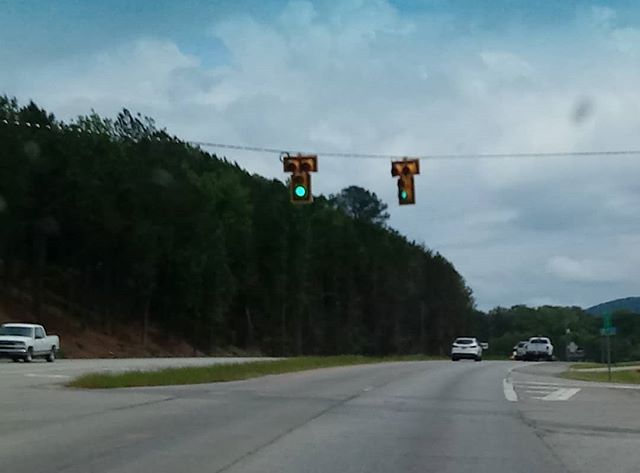car: (1, 315, 66, 360), (447, 334, 478, 359), (523, 332, 554, 357)
road: (1, 357, 640, 473)
sky: (13, 1, 640, 265)
vegetation: (1, 126, 474, 354)
